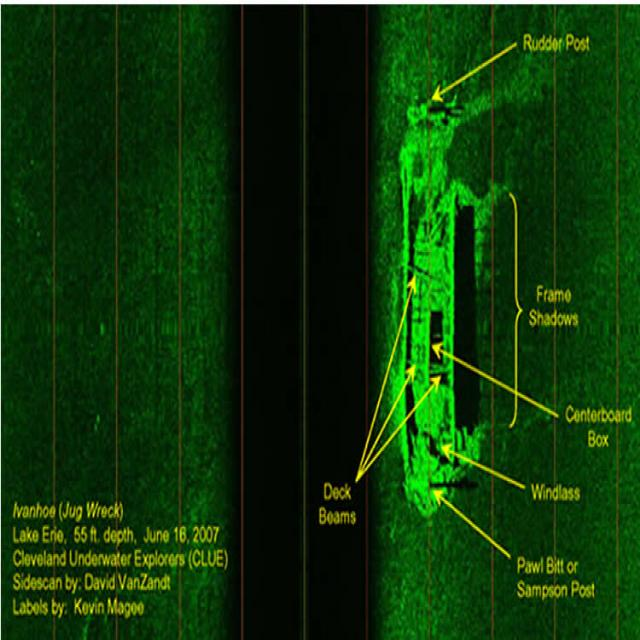ship: (392, 90, 492, 523)
